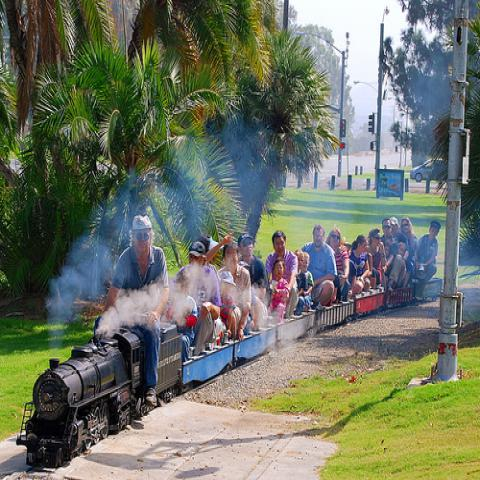car: (410, 159, 446, 181)
